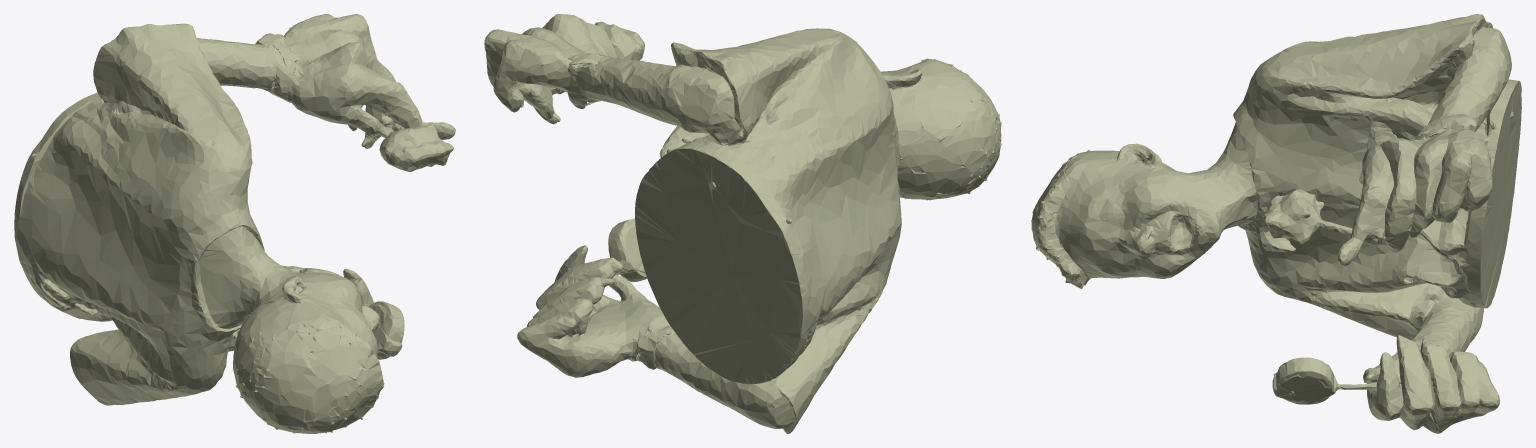
The model's file is tinker.obj.
3 renders of one model, left to right at view 1: azimuth 30°, elevation 25°; view 2: azimuth 150°, elevation 25°; view 3: azimuth 270°, elevation 25°, orthographic. The views are drawn at different scales.
Parts seen in each view (by area): view 1: obj_0; view 2: obj_0; view 3: obj_0.
Boxes of the visible parts, x1,y1,x2,y2 form: obj_0: [14, 14, 455, 433]; obj_0: [484, 14, 1002, 433]; obj_0: [1031, 14, 1521, 433].
Bounding box in the file's own units: 14.73 × 14 × 17.4.
